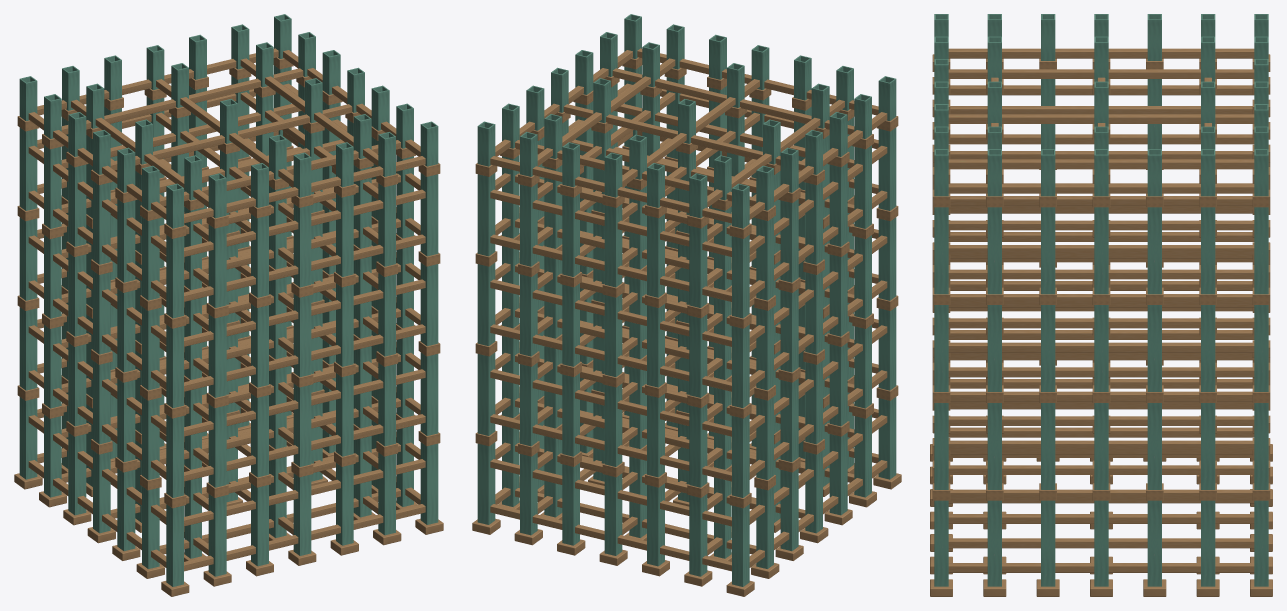
The picture shows the model from 3 angles, left to right: view 1: azimuth 30°, elevation 25°; view 2: azimuth 150°, elevation 25°; view 3: azimuth 270°, elevation 25°; orthographic projection. The views are drawn at different scales.
Parts seen in each view (by area): view 1: Tier 4 internal tie 0-0.56-0-0.25, Tier 4 internal tie 0-0-0-0.25, Tier 1 tie 0-0-0.75, Tier 4 tie 0-0-0.25, Tier 0 tie 0-0-0.75, Tier 2 tie 0-0-0.75, Tier 3 tie 0-0-0.25, Tier 0 tie 0-0-0.25, Tier 3 tie 0-0-0.75, Tier 1 tie 0-0-0.25, Tier 2 tie 0-0-0.25, Tier 3 upright 0 (+138 smaller); view 2: Tier 4 internal tie 0--0.56-0-0.25, Tier 4 internal tie 0-0-0-0.25, Tier 1 tie 2-0-0.75, Tier 4 tie 2-0-0.25, Tier 0 tie 2-0-0.75, Tier 2 tie 2-0-0.75, Tier 3 tie 2-0-0.25, Tier 0 tie 2-0-0.25, Tier 3 tie 2-0-0.75, Tier 1 tie 2-0-0.25, Tier 2 tie 2-0-0.25, Tier 3 upright 18 (+138 smaller); view 3: Tier 4 internal tie 1--0.56-0-0.25, Tier 4 internal tie 1-0-0-0.25, Tier 0 internal tie 1-0.56-0-0.25, Tier 2 internal tie 1-0.56-0-0.25, Tier 2 tie 1-0-0.25, Tier 2 tie 1-0-0.75, Tier 4 internal tie 1-0.56-0-0.25, Tier 4 tie 3-0-0.25, Tier 1 internal tie 1-0.56-0-0.25, Tier 3 tie 1-0-0.25, Tier 3 tie 1-0-0.75, Tier 3 tie 3-0-0.25 (+76 smaller).
Part boxes in pixels (box(x1,y1,x2,y2)): Tier 4 internal tie 0-0.56-0-0.25: box(61, 68, 303, 134); Tier 4 internal tie 0-0-0-0.25: box(110, 104, 352, 170); Tier 1 tie 0-0-0.75: box(184, 369, 425, 436); Tier 4 tie 0-0-0.25: box(184, 156, 425, 223); Tier 0 tie 0-0-0.75: box(184, 459, 425, 526); Tier 2 tie 0-0-0.75: box(184, 279, 425, 346); Tier 3 tie 0-0-0.25: box(184, 234, 425, 301); Tier 0 tie 0-0-0.25: box(184, 504, 425, 571); Tier 3 tie 0-0-0.75: box(184, 189, 425, 256); Tier 1 tie 0-0-0.25: box(184, 414, 425, 481); Tier 2 tie 0-0-0.25: box(184, 324, 425, 391); Tier 3 upright 0: box(166, 235, 183, 318); Tier 4 internal tie 0--0.56-0-0.25: box(612, 68, 854, 134); Tier 4 internal tie 0-0-0-0.25: box(563, 104, 805, 170); Tier 1 tie 2-0-0.75: box(490, 369, 731, 436); Tier 4 tie 2-0-0.25: box(490, 156, 731, 223); Tier 0 tie 2-0-0.75: box(490, 459, 731, 526); Tier 2 tie 2-0-0.75: box(490, 279, 731, 346); Tier 3 tie 2-0-0.25: box(490, 234, 731, 301); Tier 0 tie 2-0-0.25: box(490, 504, 731, 571); Tier 3 tie 2-0-0.75: box(490, 189, 731, 256); Tier 1 tie 2-0-0.25: box(490, 414, 731, 481); Tier 2 tie 2-0-0.25: box(490, 324, 731, 391); Tier 3 upright 18: box(732, 235, 749, 318); Tier 4 internal tie 1--0.56-0-0.25: box(948, 69, 1254, 78); Tier 4 internal tie 1-0-0-0.25: box(948, 114, 1254, 123); Tier 0 internal tie 1-0.56-0-0.25: box(948, 538, 1254, 548); Tier 2 internal tie 1-0.56-0-0.25: box(948, 342, 1254, 352); Tier 2 tie 1-0-0.25: box(948, 367, 1254, 377); Tier 2 tie 1-0-0.75: box(948, 318, 1254, 328); Tier 4 internal tie 1-0.56-0-0.25: box(948, 159, 1254, 169); Tier 4 tie 3-0-0.25: box(948, 48, 1254, 58); Tier 1 internal tie 1-0.56-0-0.25: box(948, 440, 1254, 450); Tier 3 tie 1-0-0.25: box(948, 269, 1254, 279); Tier 3 tie 1-0-0.75: box(948, 220, 1254, 230); Tier 3 tie 3-0-0.25: box(948, 134, 1254, 144).
Size of the model in its own units: 1.8 by 2.55 by 1.8.
2 materials, 2 textured.
